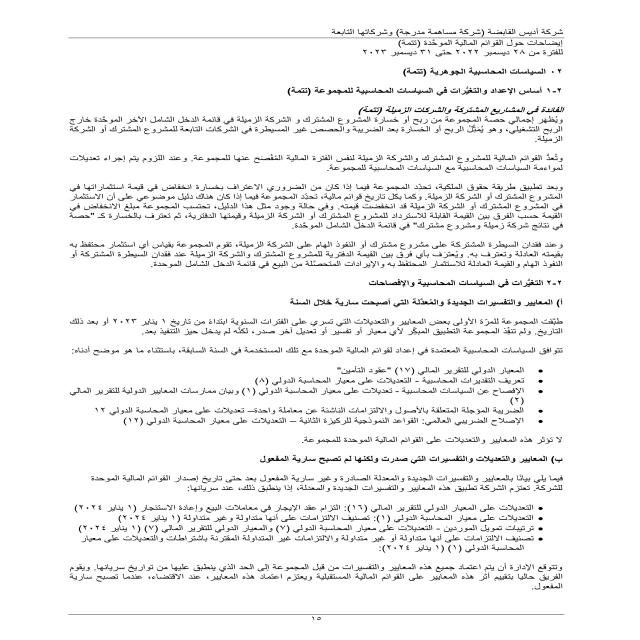notes: (392, 38, 567, 48)
text: (50, 61, 565, 597)
